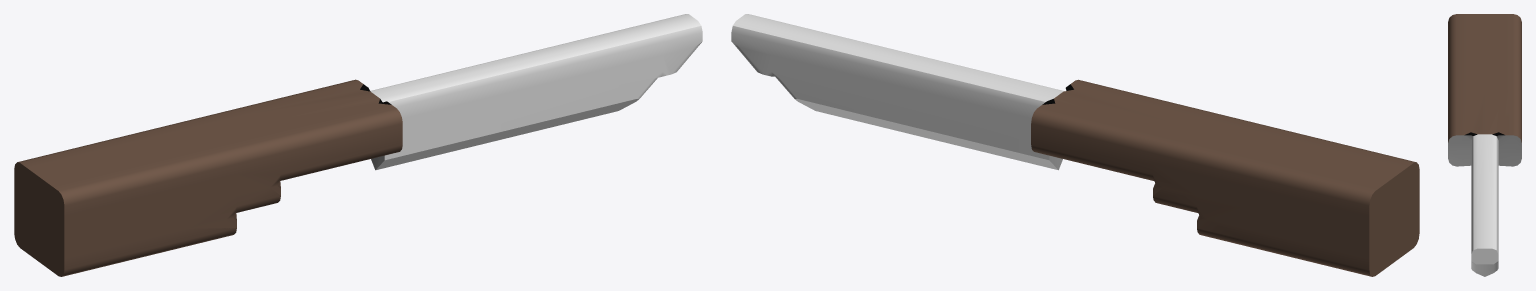
File: Knife.fbx
3 views of the same model, side by side, from view 1: azimuth 30°, elevation 25°; view 2: azimuth 150°, elevation 25°; view 3: azimuth 270°, elevation 25° (orthographic). The views are drawn at different scales.
Parts seen in each view (by area): view 1: pCube3; view 2: pCube3; view 3: pCube3.
Part boxes in pixels (<box>): pCube3: <box>14,14,702,276</box>; pCube3: <box>731,14,1419,276</box>; pCube3: <box>1448,14,1521,276</box>.
Bounding box in the file's own units: 3.39 × 0.4215 × 0.4504.
